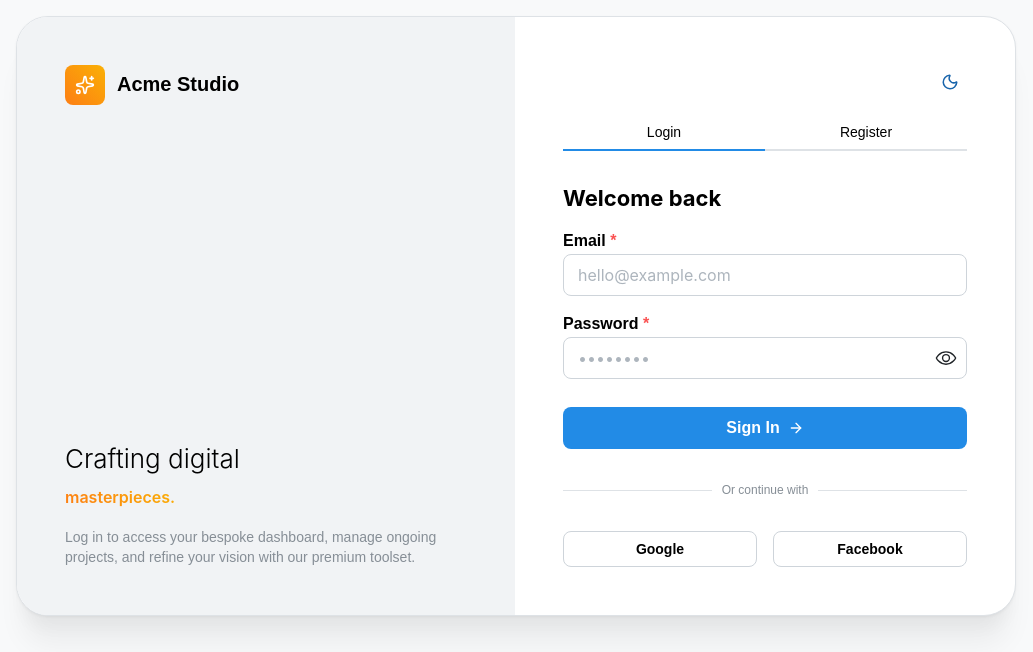
AuthPage Component › switches to the signup form when the Register tab is clicked
Use fireEvent instead of userEvent to avoid hanging on fake timer issues
Click the tab "Register". click: (866, 132)
box: x1=765 y1=114 x2=967 y2=150
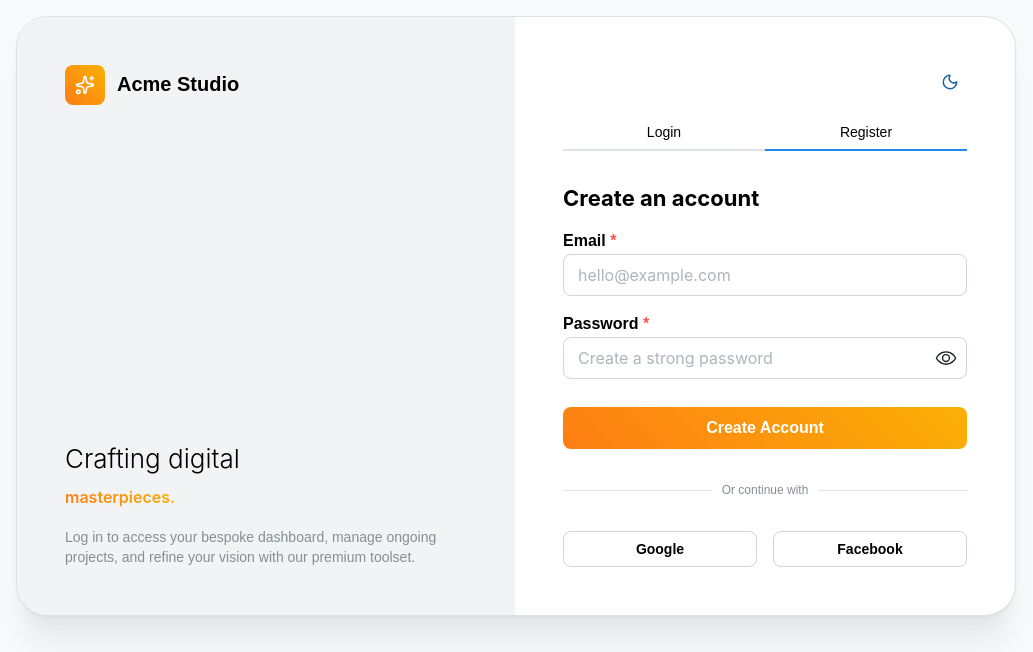
Expected: the heading "Create an account" is shown, x1=563 y1=184 x2=759 y2=210
Expected: the button "Create Account" is shown, x1=563 y1=407 x2=967 y2=449
